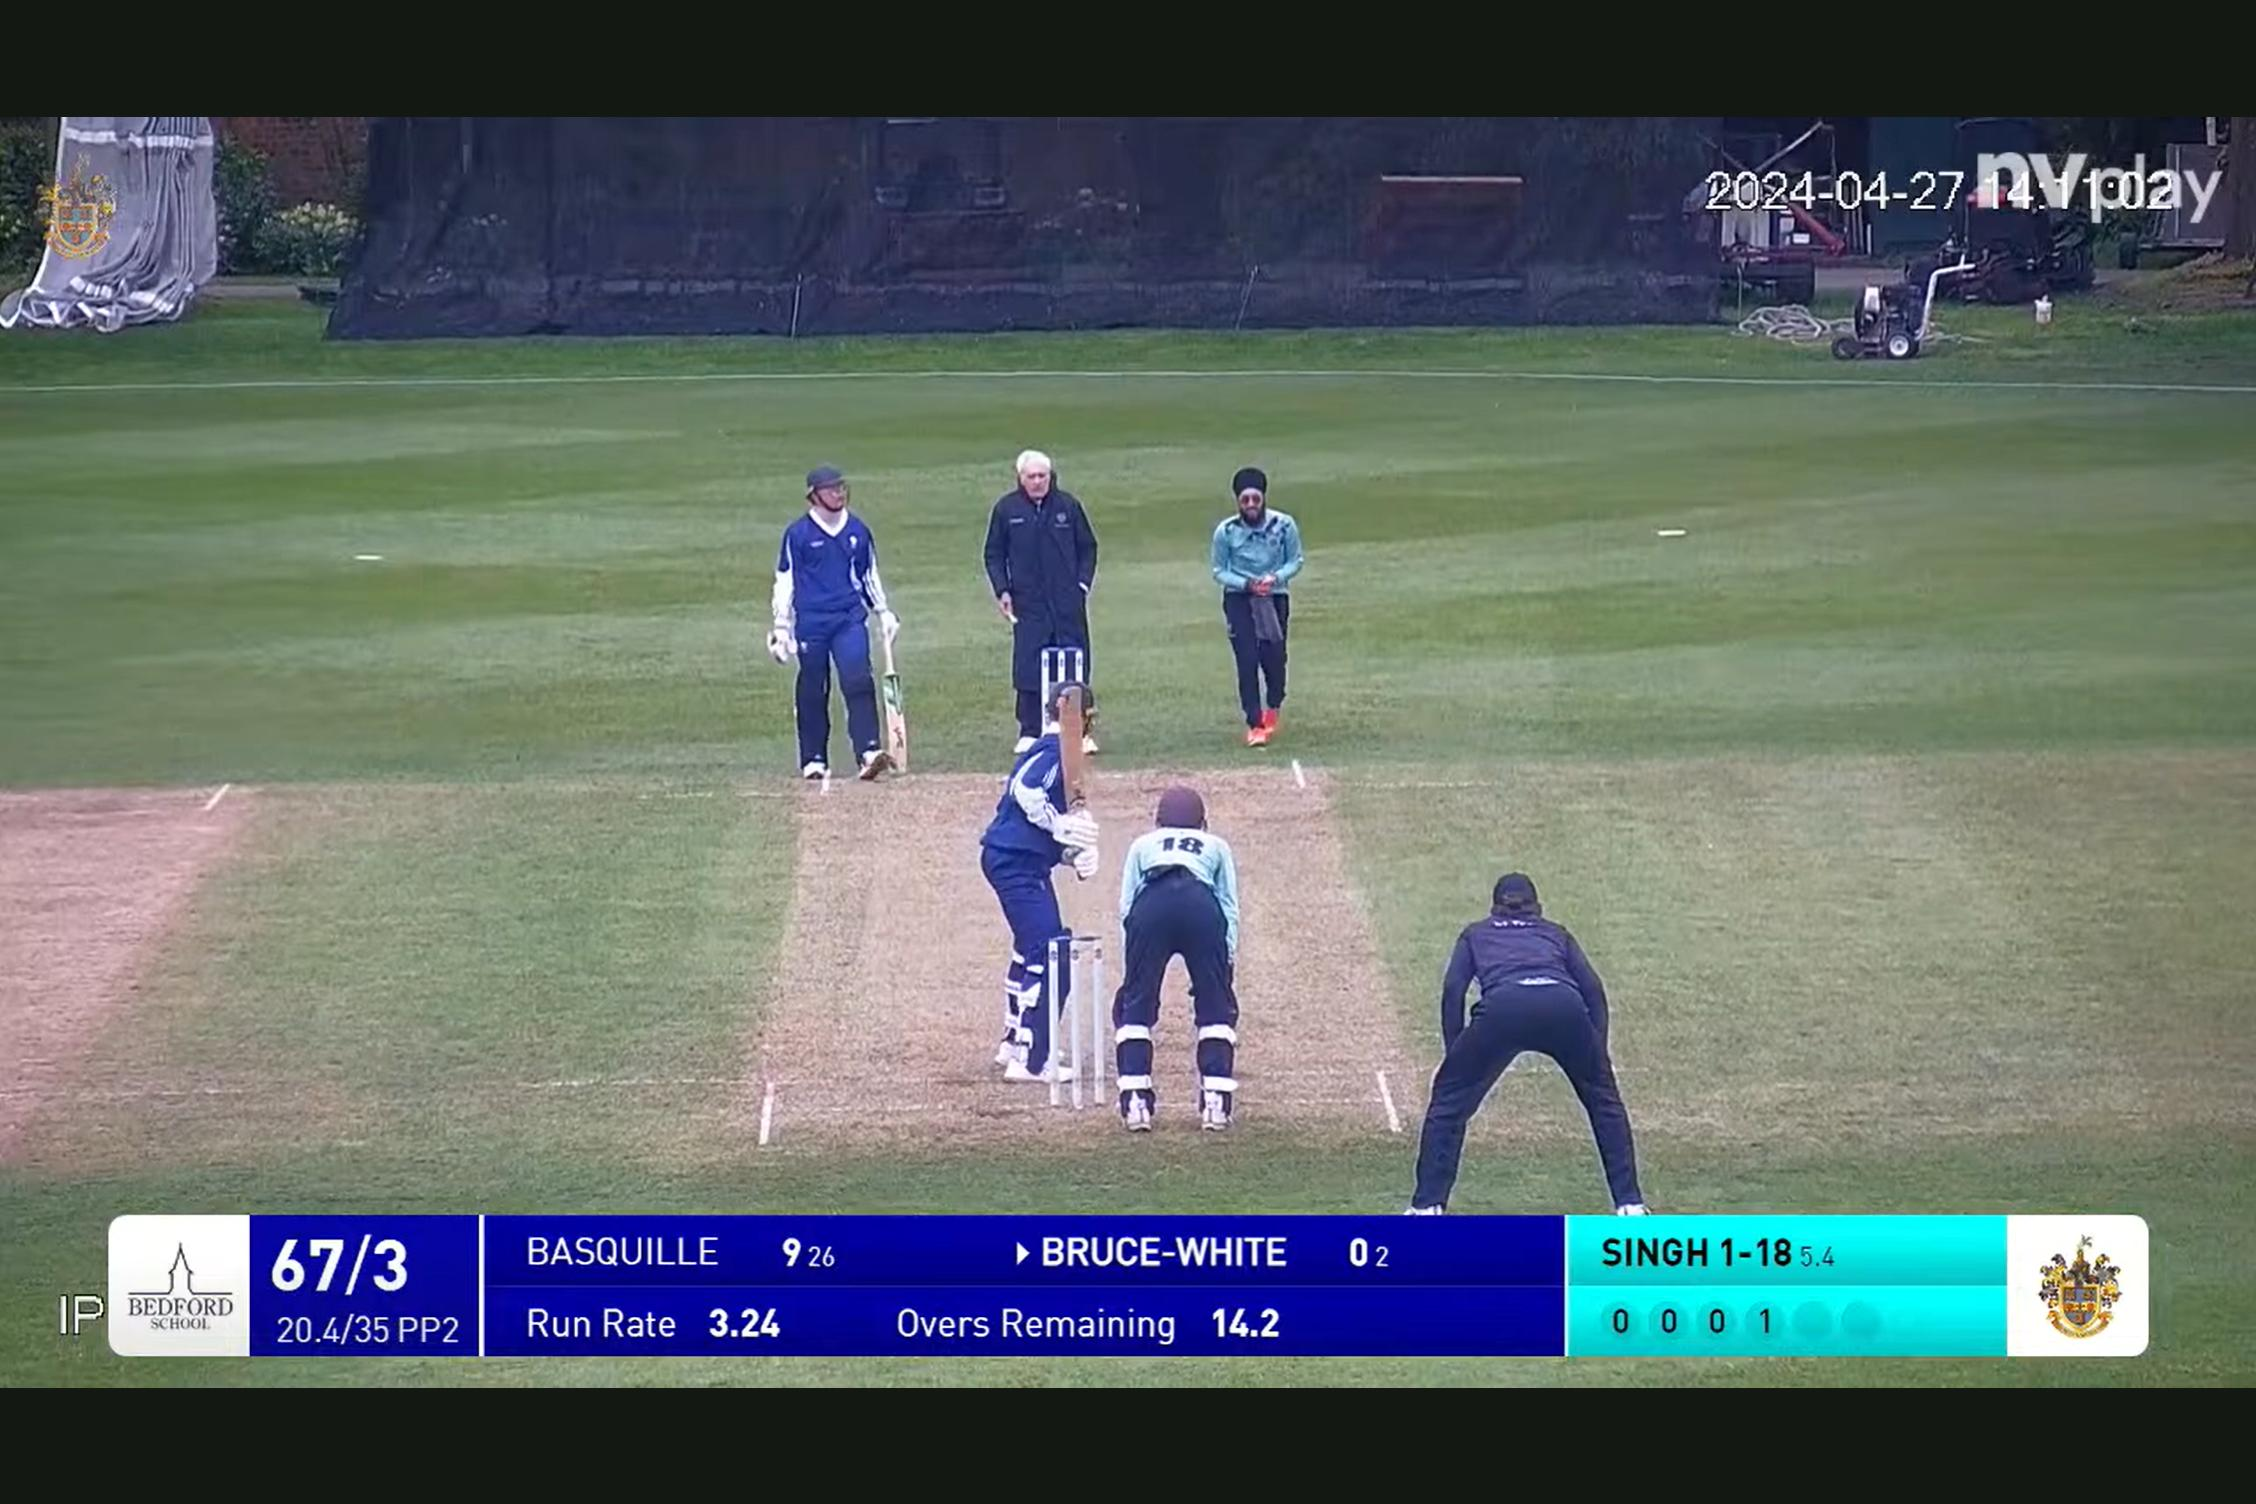batsman: (957, 663, 1104, 1073)
bowler running in: (1193, 443, 1338, 759)
non striker: (727, 448, 940, 806)
wicket keeper: (1125, 770, 1257, 1158)
